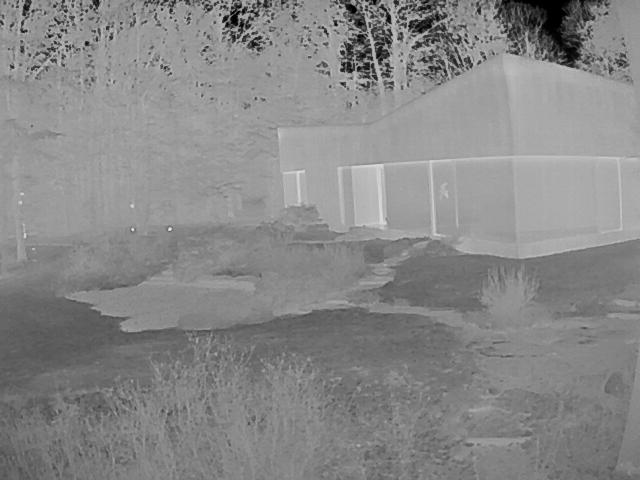person: (443, 181, 453, 198)
